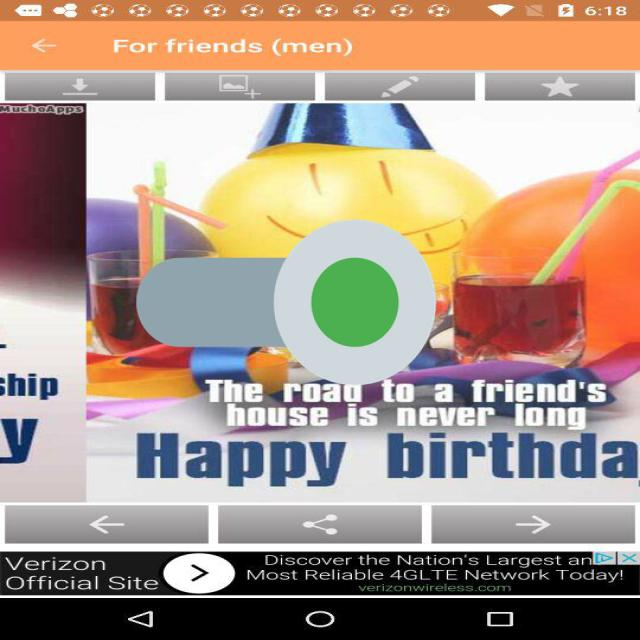social proof: (136, 150, 436, 456)
